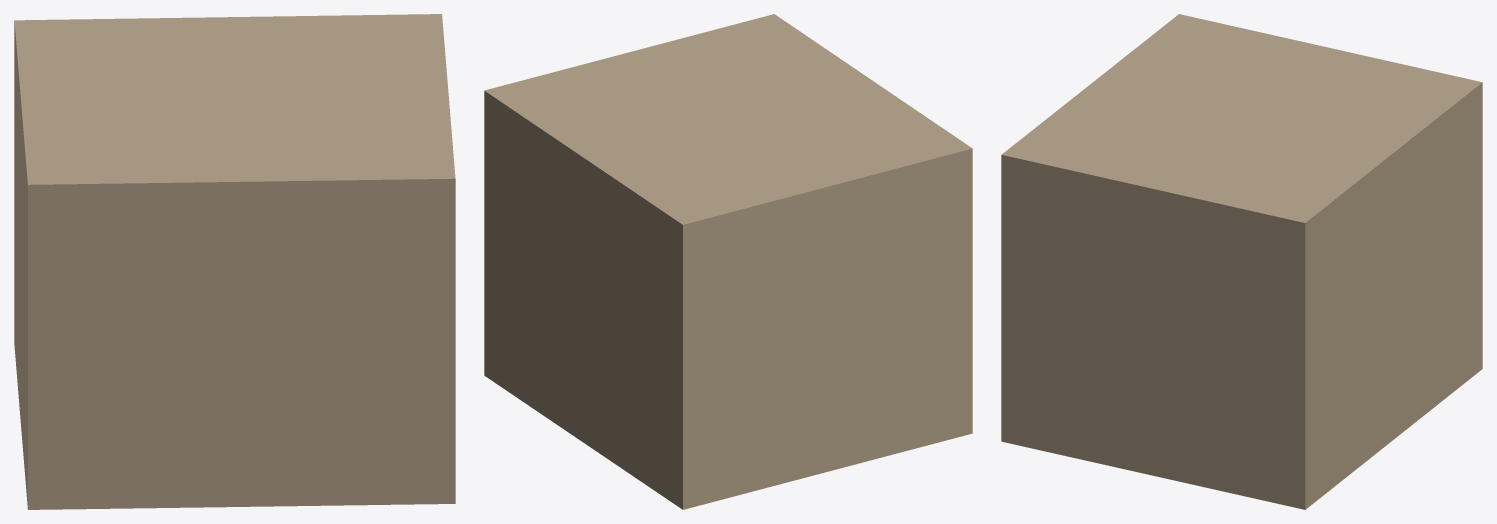
The model's file is bld_99531979.dae.
3 views of the same model, side by side, from view 1: azimuth 30°, elevation 25°; view 2: azimuth 150°, elevation 25°; view 3: azimuth 270°, elevation 25° (orthographic). The views are drawn at different scales.
Visible parts, largest first — view 1: bld_99531979; view 2: bld_99531979; view 3: bld_99531979.
Part boxes in pixels (x1,y1,x2,y2): bld_99531979: (14, 14, 455, 509); bld_99531979: (484, 14, 972, 509); bld_99531979: (1001, 14, 1482, 509).
Bounding box in the file's own units: 12.51 × 12.16 × 8.
